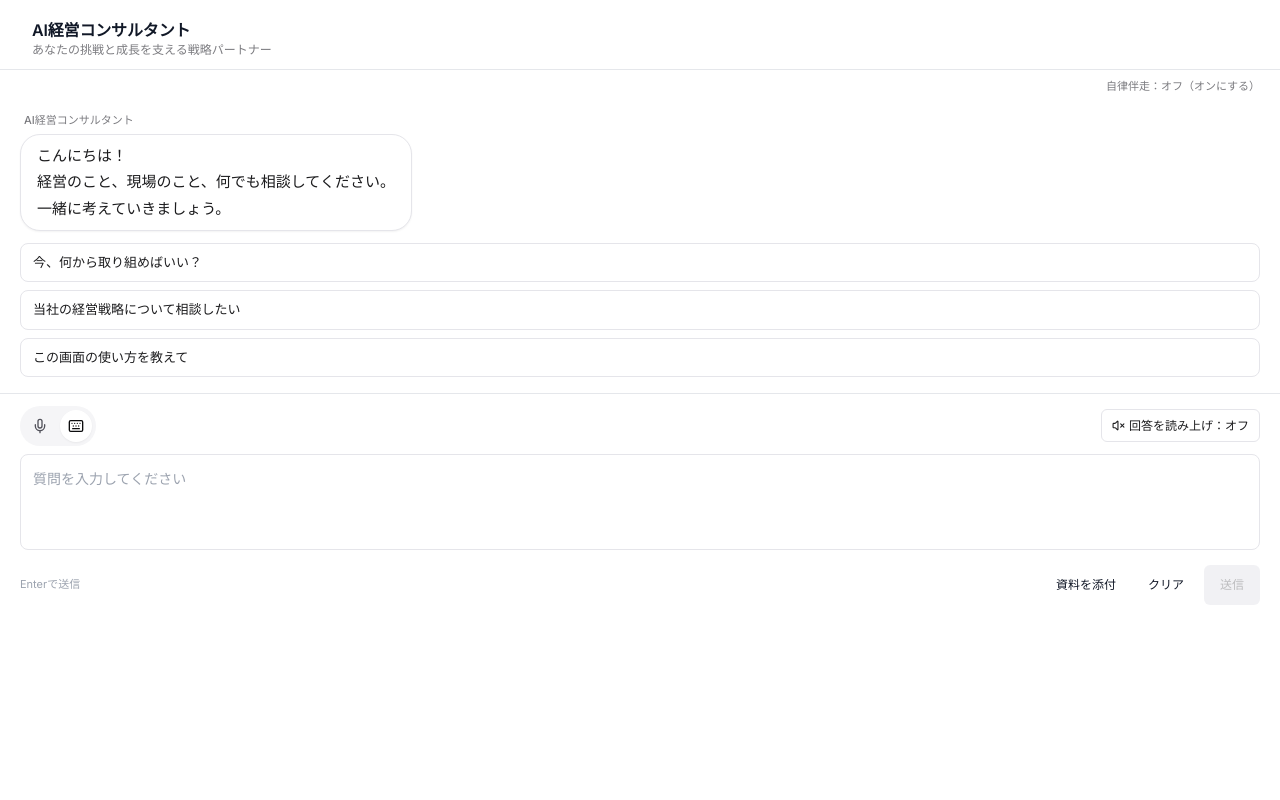
Test: 自律伴走：初期状態と判定の安全性 › オンにすると、会社名が未入力の案内を出す（リンク付き）。AIは呼ばない
Expected: the text box is enabled, x1=20 y1=454 x2=1260 y2=550
Click the button "自律伴走：オフ（オンにする）": (1183, 87) x1=1106 y1=78 x2=1260 y2=96
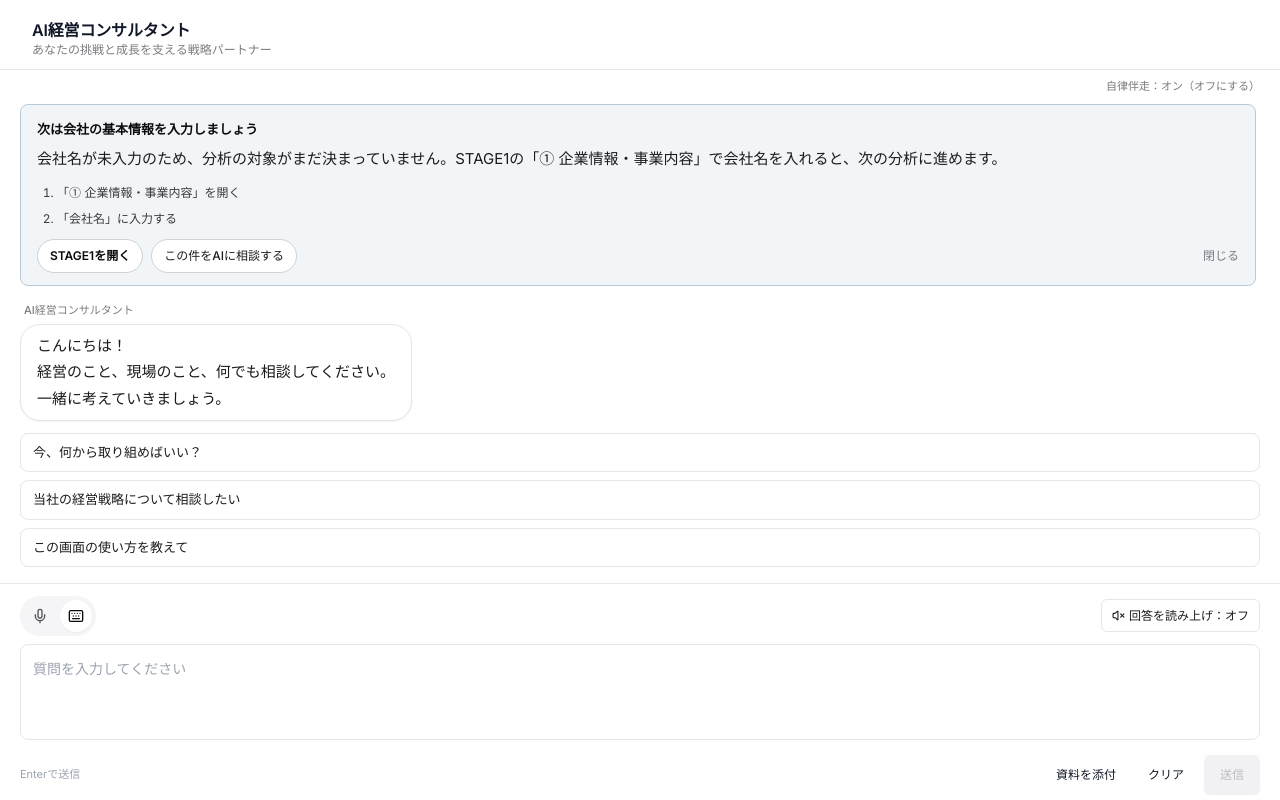
Expected: the element named "AI経営コンサルタントからの案内" shows "次は会社の基本情報を入力しましょう", x1=37 y1=121 x2=258 y2=137
Expected: the link to "/stage1" reads "STAGE1を開く", x1=37 y1=239 x2=143 y2=273
